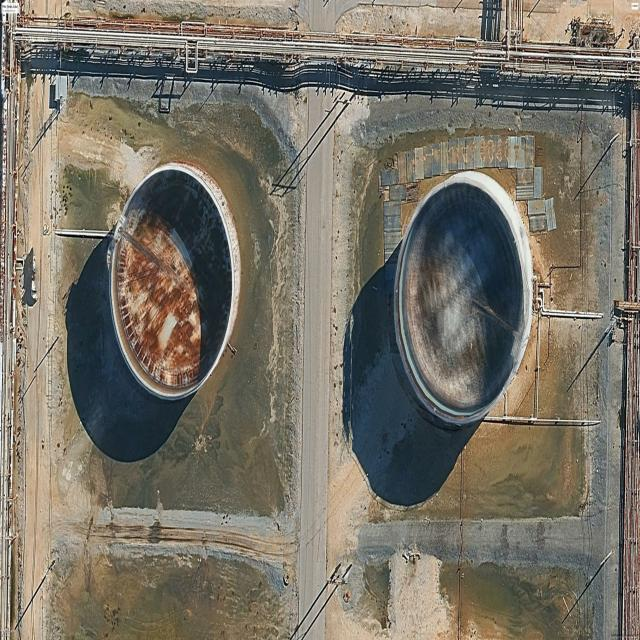Oil Rafinery: (394, 171, 533, 424), (109, 163, 240, 399)
